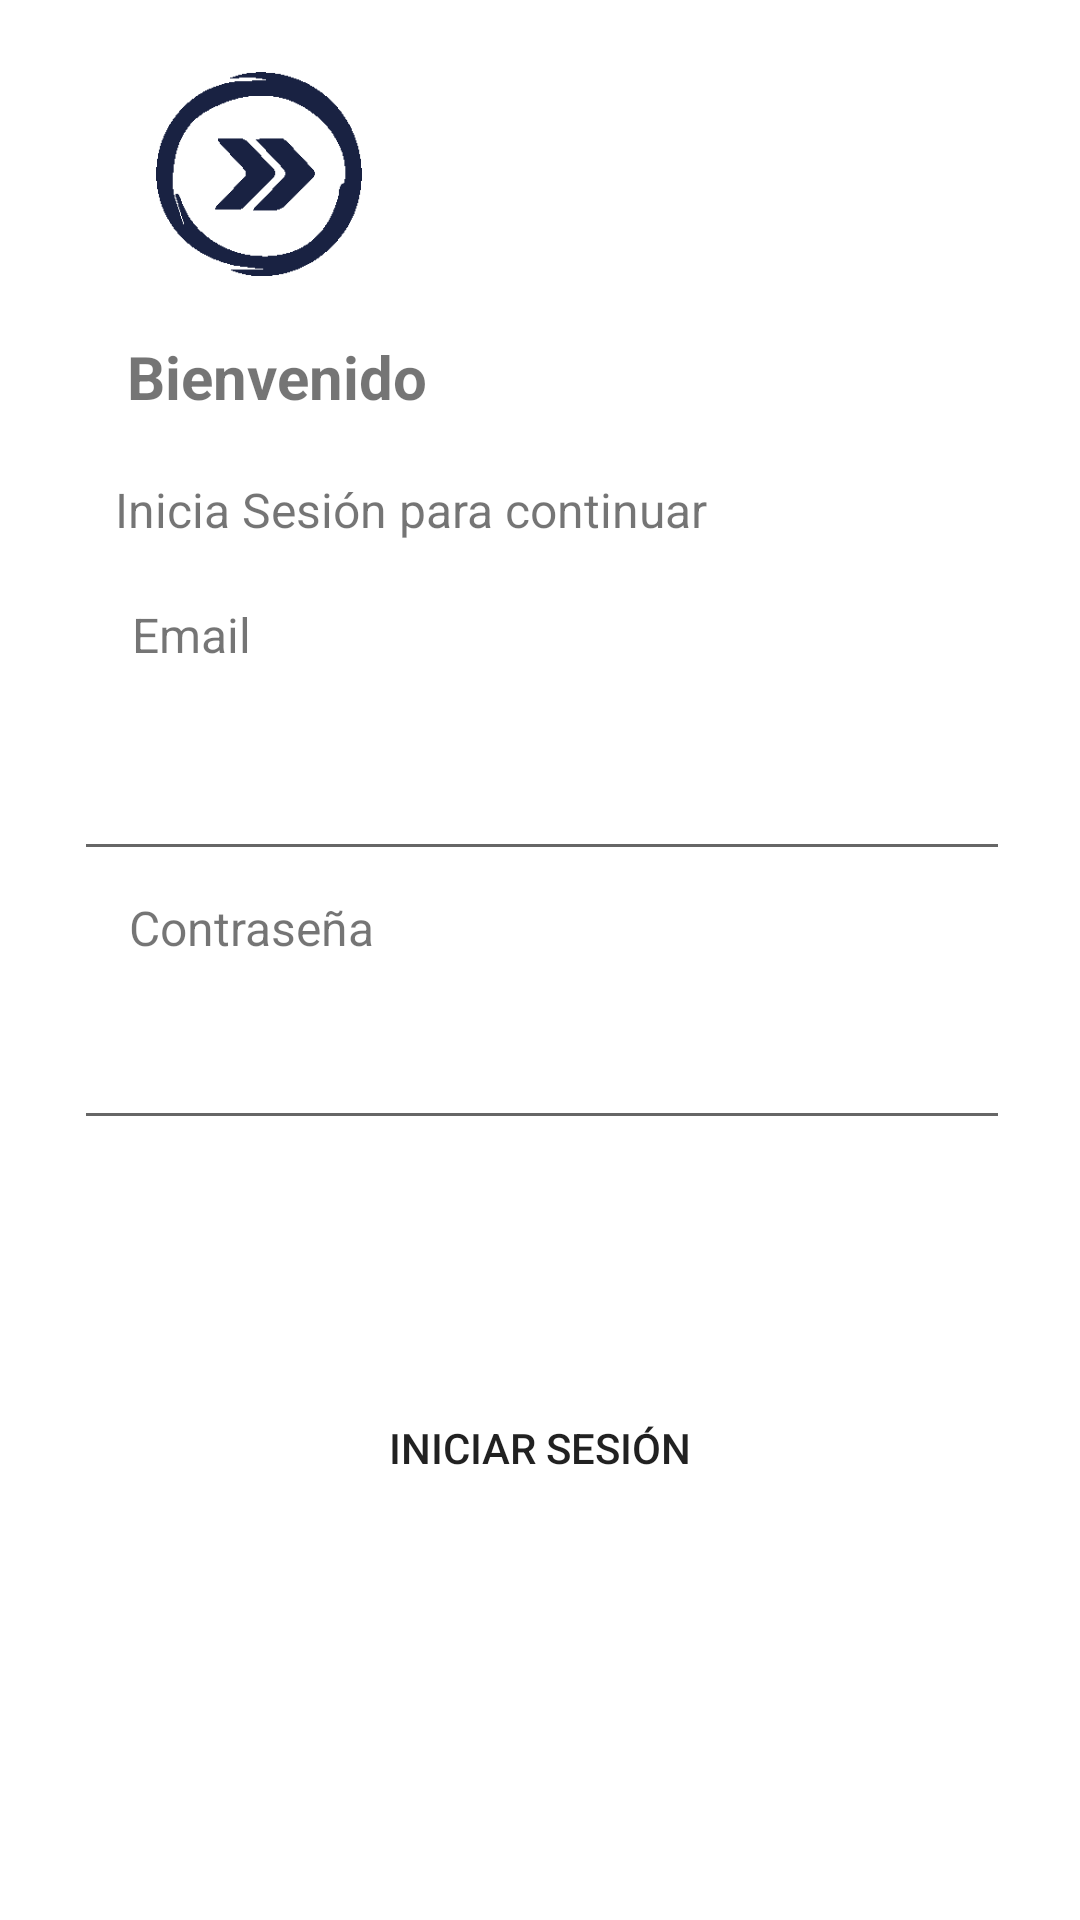

Point at icon controls on the screen. Image size 1080 × 1920, points as [x,y].
marca: [259,174]
